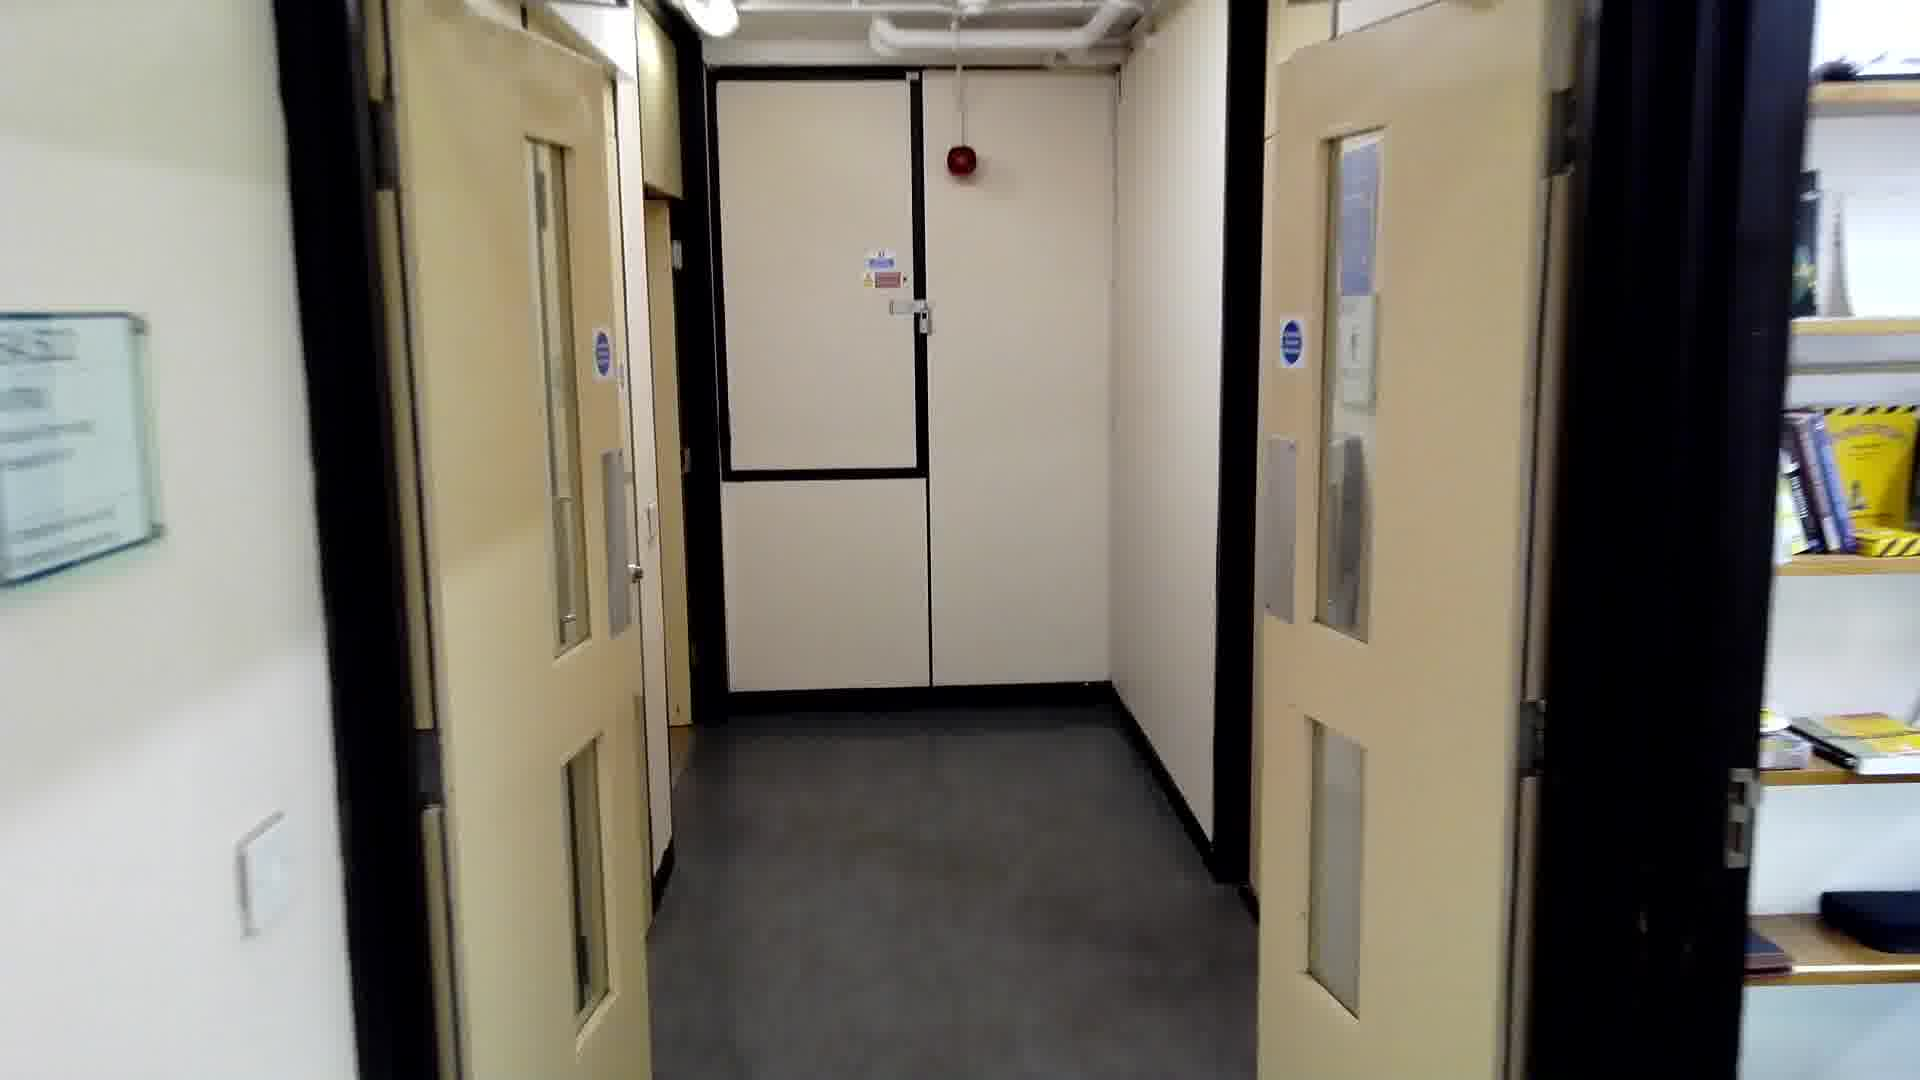Door: (338, 4, 669, 1080), (1261, 3, 1543, 1080)
